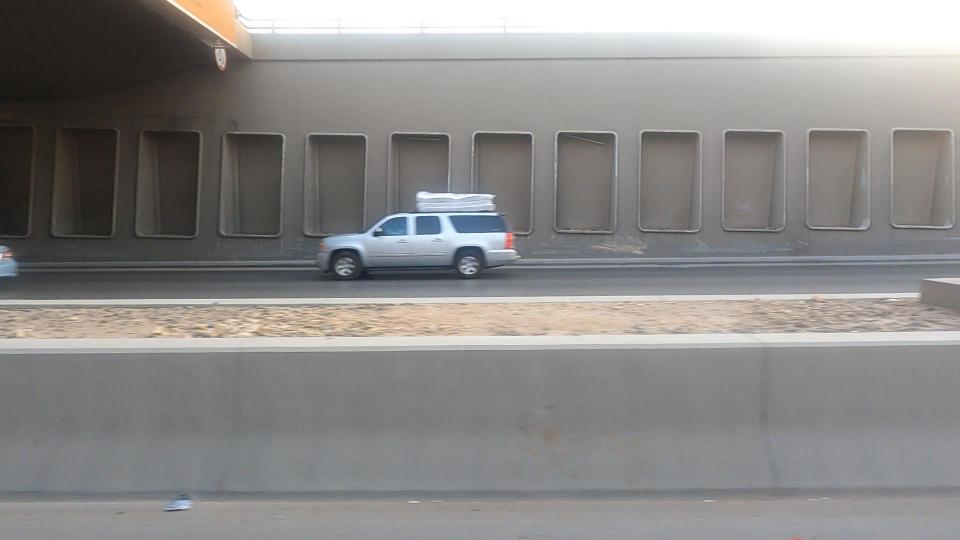CLUTTER_SIDEWALK: (0, 252, 509, 375), (335, 271, 867, 358)
